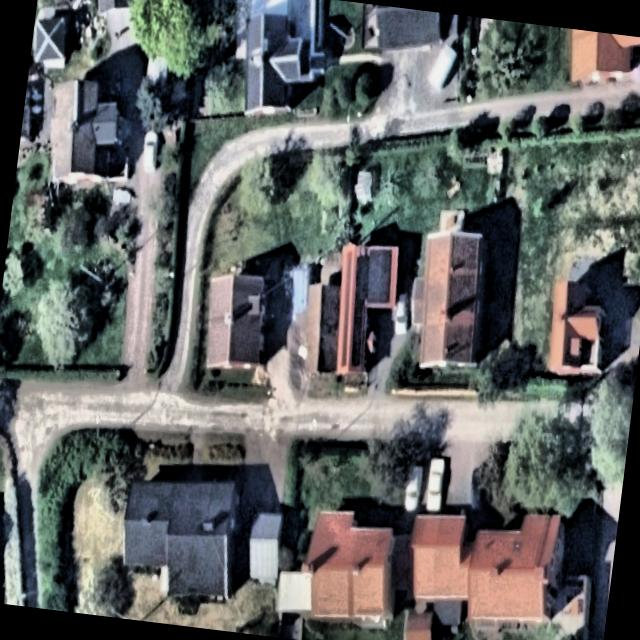roof_pv: (344, 244, 376, 371), (332, 245, 360, 372), (362, 242, 397, 308)
